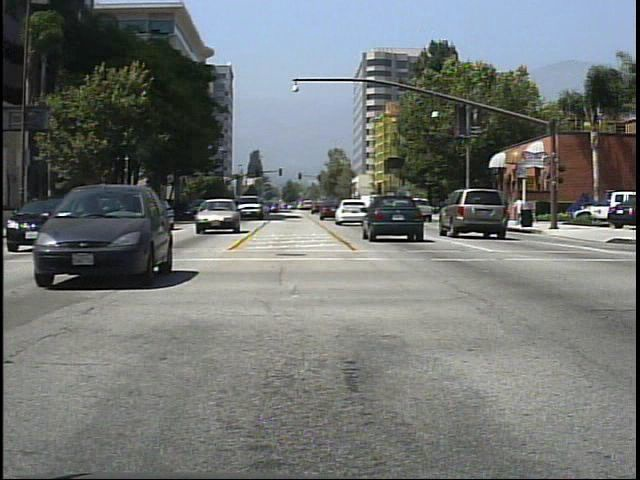person: (510, 195, 529, 232), (479, 190, 497, 225)
